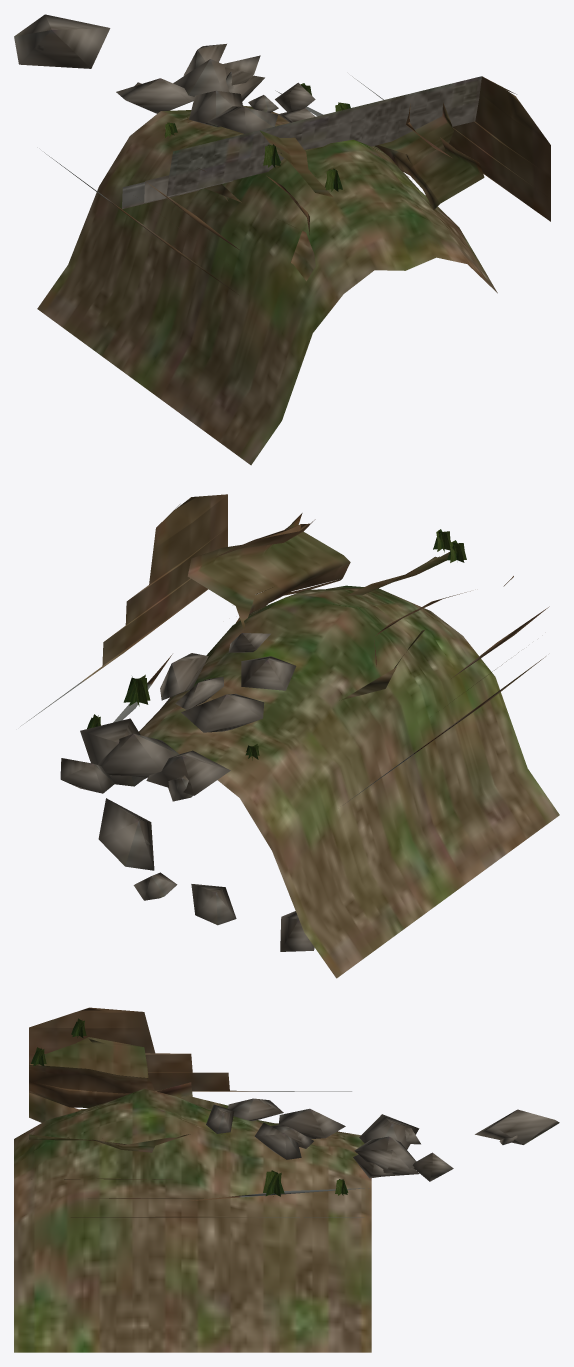
Rendered from starfort_covered_way_live.glb.
The picture shows the model from 3 angles, top to bottom: view 1: azimuth 30°, elevation 25°; view 2: azimuth 150°, elevation 25°; view 3: azimuth 270°, elevation 25°; orthographic projection. The views are drawn at different scales.
Visible parts, largest first — view 1: breached, endcap_b, intact, cracked, endcap_a; view 2: breached, endcap_b, cracked, endcap_a; view 3: breached, endcap_a, cracked, endcap_b.
Part boxes in pixels (box(x1,y1,x2,y2)): breached: box(14, 14, 497, 465); endcap_b: box(352, 76, 550, 221); intact: box(122, 76, 481, 208); cracked: box(122, 83, 464, 208); endcap_a: box(44, 152, 239, 294); breached: box(60, 513, 559, 978); endcap_b: box(20, 494, 227, 726); cracked: box(87, 529, 466, 951); endcap_a: box(345, 576, 549, 803); breached: box(14, 1037, 559, 1352); endcap_a: box(29, 1007, 351, 1091); cracked: box(31, 1018, 348, 1196); endcap_b: box(31, 1178, 364, 1217).
Size of what is drawn, in the model's own units: 4.09 by 3.48 by 7.33.
Materials: 2 (2 with a texture image).
